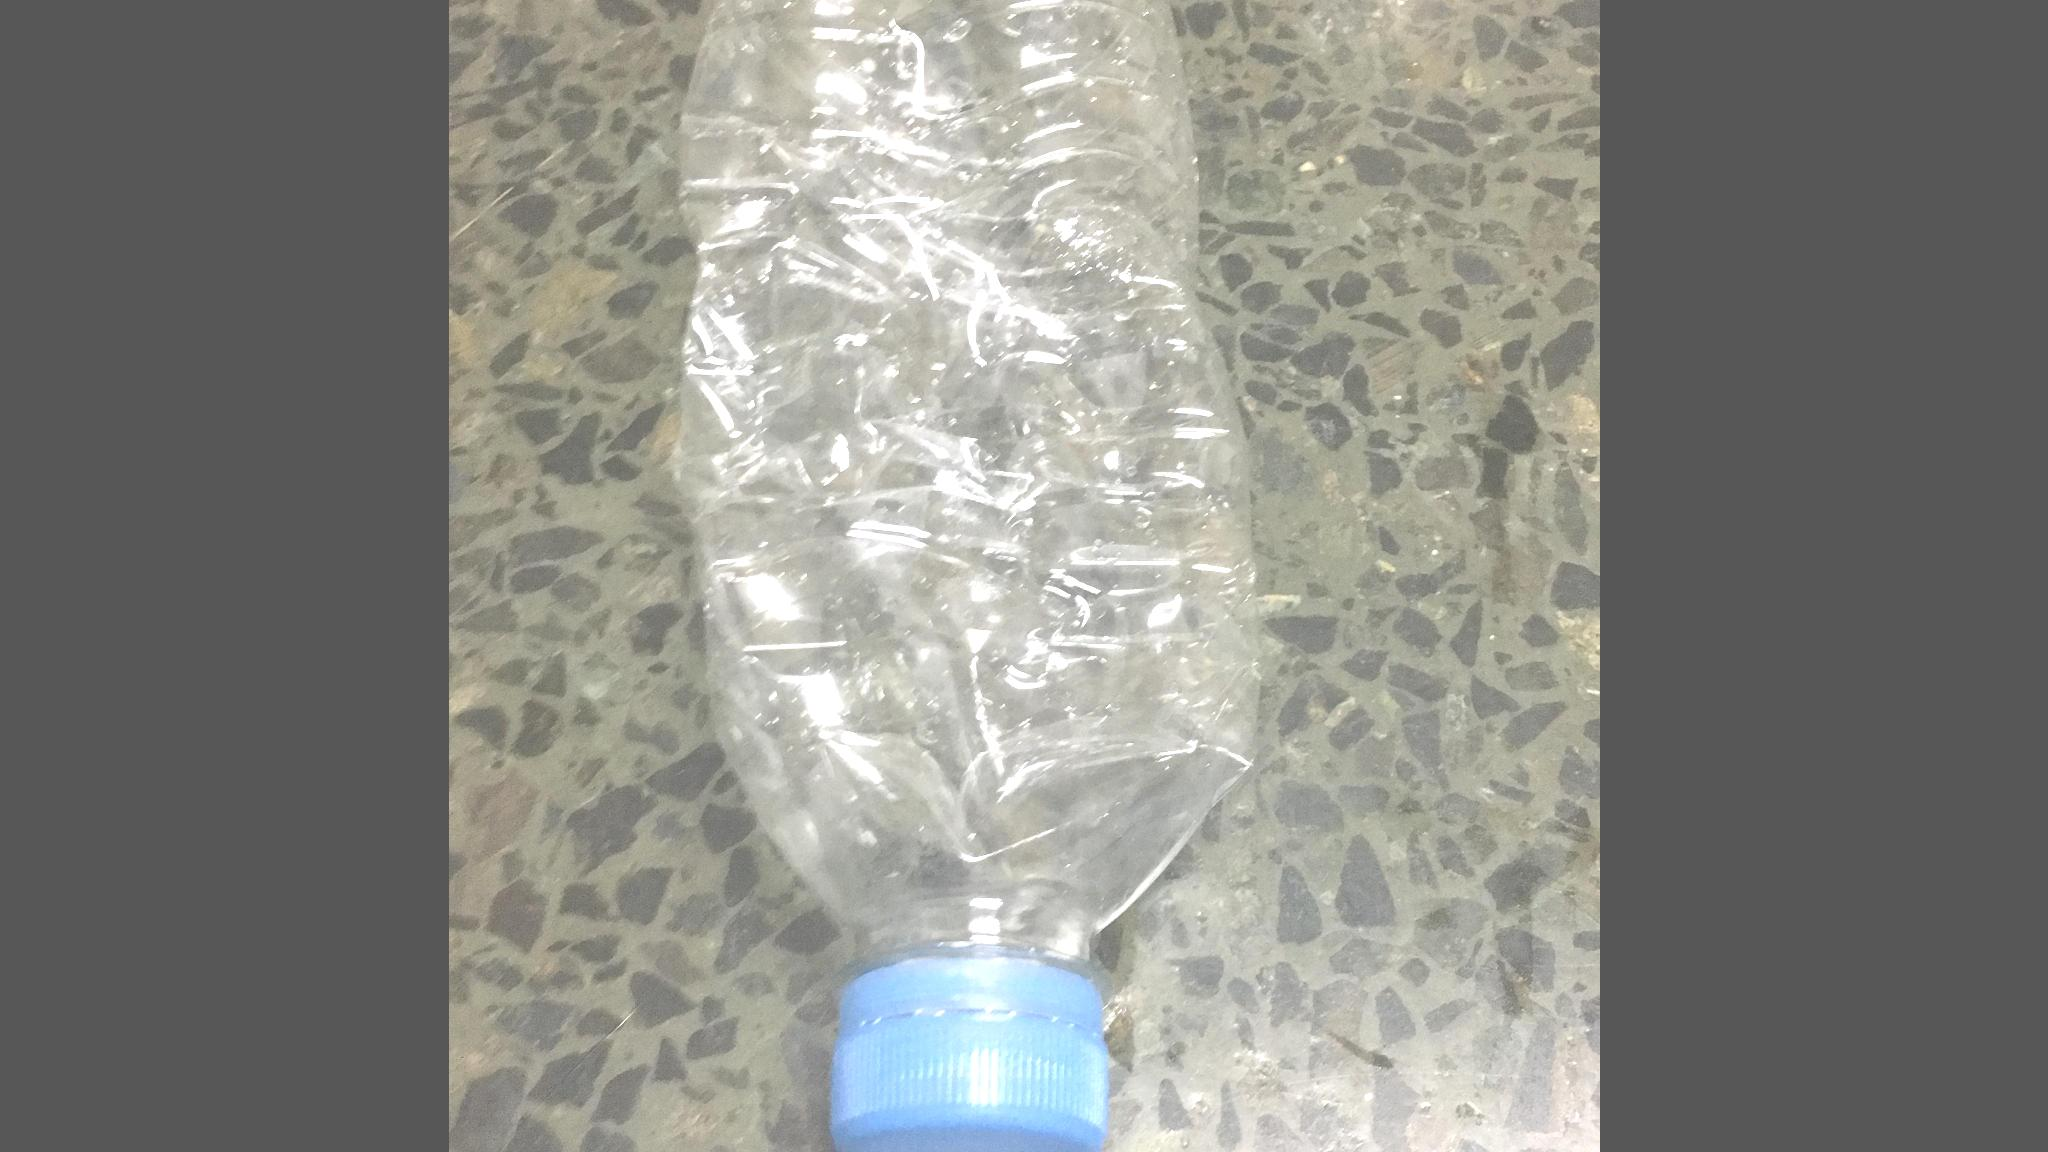bottle: (659, 0, 1272, 1152)
